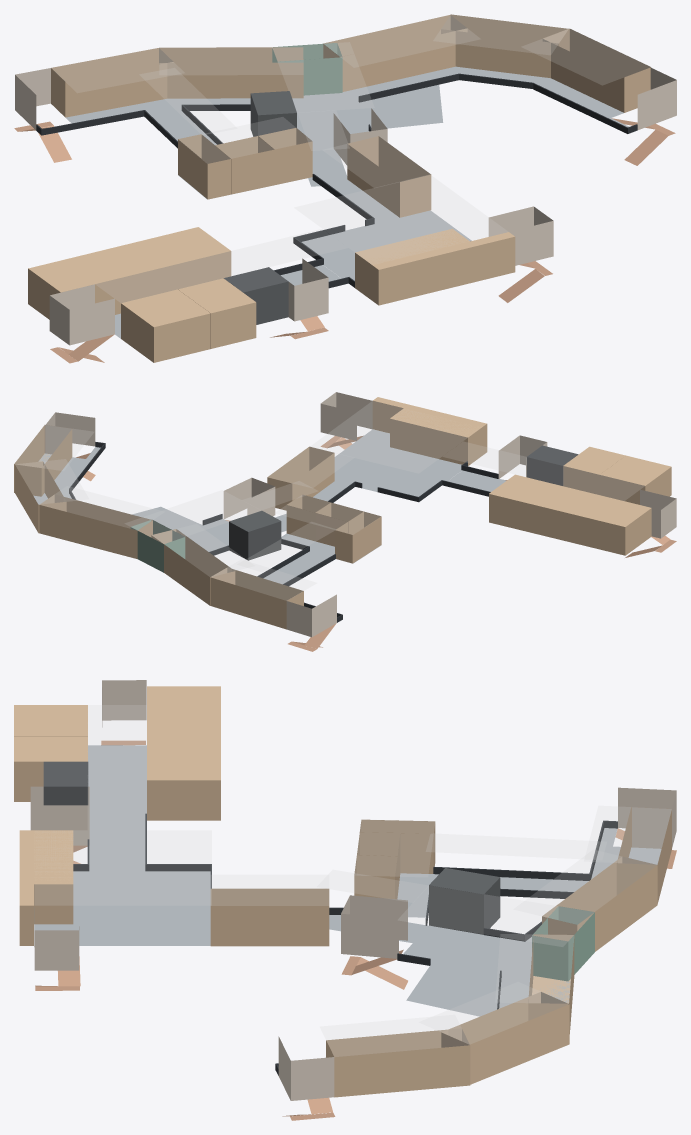
3 views of the same model, one above another, from view 1: azimuth 30°, elevation 25°; view 2: azimuth 150°, elevation 25°; view 3: azimuth 270°, elevation 25° (orthographic). The views are drawn at different scales.
Parts seen in each view (by area): view 1: 立方體.176, 立方體.110, 立方體.001, 立方體.032, 立方體.177, 立方體.040, 立方體.164, 立方體.098, 立方體.042, 立方體.117, 立方體.168, 丁棟3F (+49 smaller); view 2: 立方體.176, 立方體.091, 立方體.040, 立方體.001, 立方體.177, 立方體.042, 立方體.032, 立方體.164, 立方體.067, 立方體.110, 立方體.098, 丁棟3F (+35 smaller); view 3: 立方體.176, 立方體.091, 立方體.177, 立方體.039, 立方體.164, 立方體.042, 立方體.003, 丁棟3F, 立方體.168, 立方體.002, 立方體.110, 立方體.001 (+36 smaller).
Part boxes in pixels (bbox=[...]): 立方體.176: bbox=[295, 175, 507, 263]; 立方體.110: bbox=[159, 47, 303, 98]; 立方體.001: bbox=[355, 228, 476, 305]; 立方體.032: bbox=[51, 48, 173, 117]; 立方體.177: bbox=[96, 229, 347, 302]; 立方體.040: bbox=[28, 246, 151, 319]; 立方體.164: bbox=[273, 42, 373, 112]; 立方體.098: bbox=[121, 289, 210, 362]; 立方體.042: bbox=[119, 227, 231, 295]; 立方體.117: bbox=[323, 15, 467, 91]; 立方體.168: bbox=[324, 15, 479, 67]; 丁棟3F: bbox=[159, 48, 302, 74]; 立方體.176: bbox=[311, 401, 466, 472]; 立方體.091: bbox=[334, 429, 461, 496]; 立方體.040: bbox=[552, 490, 651, 555]; 立方體.001: bbox=[390, 404, 487, 465]; 立方體.177: bbox=[443, 442, 643, 500]; 立方體.042: bbox=[489, 474, 578, 537]; 立方體.032: bbox=[210, 567, 303, 629]; 立方體.164: bbox=[126, 490, 260, 543]; 立方體.067: bbox=[39, 505, 137, 558]; 立方體.110: bbox=[151, 529, 235, 605]; 立方體.098: bbox=[599, 455, 671, 504]; 丁棟3F: bbox=[152, 524, 253, 576]; 立方體.176: bbox=[35, 831, 211, 904]; 立方體.091: bbox=[34, 870, 210, 945]; 立方體.177: bbox=[88, 705, 146, 829]; 立方體.039: bbox=[88, 745, 146, 870]; 立方體.164: bbox=[398, 886, 593, 946]; 立方體.042: bbox=[147, 736, 220, 820]; 立方體.003: bbox=[334, 1045, 470, 1097]; 丁棟3F: bbox=[514, 850, 656, 924]; 立方體.168: bbox=[496, 934, 573, 1002]; 立方體.002: bbox=[210, 906, 329, 946]; 立方體.110: bbox=[542, 856, 657, 951]; 立方體.001: bbox=[19, 830, 73, 924].
Size of the model in its own units: 60.81 by 6.02 by 44.75.
